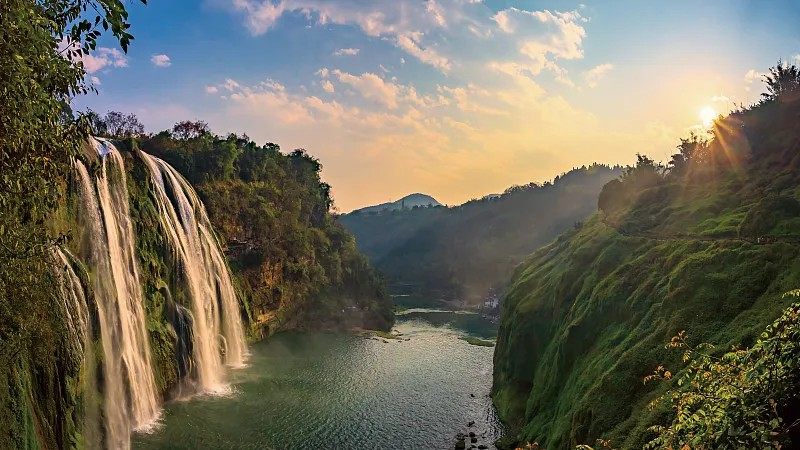Huangguoshu: (54, 138, 249, 434)
